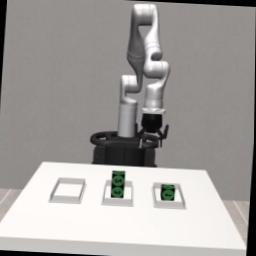cube1: (159, 183, 176, 200)
cube2: (111, 169, 126, 186)
cube3: (110, 185, 124, 198)
